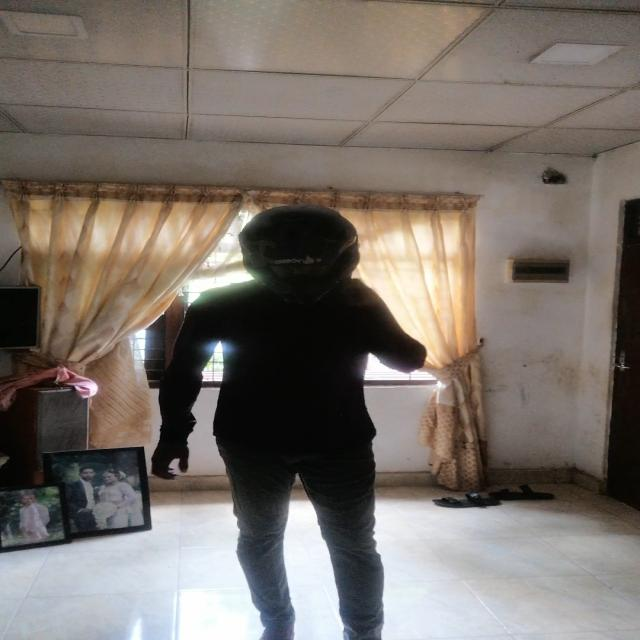Helmet_Wearer: (198, 202, 349, 290)
Person: (172, 203, 422, 618)
